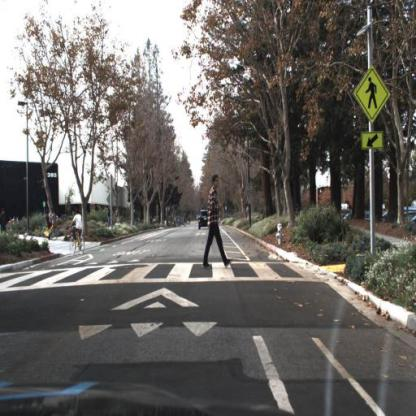biker: (68, 207, 87, 259), (42, 210, 60, 244)
car: (199, 207, 212, 231)
pedestrian: (201, 172, 237, 271)
